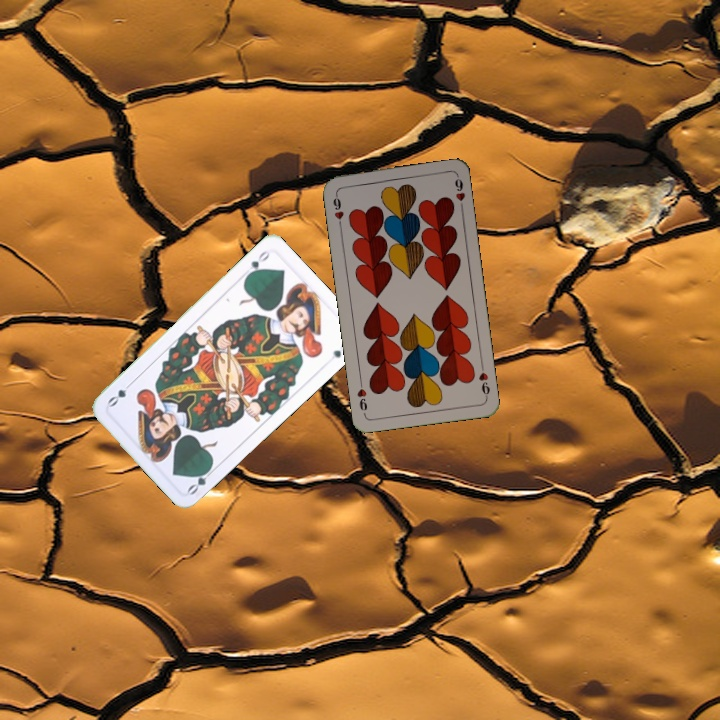GO: (183, 462, 218, 497), (242, 246, 272, 280)
H9: (475, 360, 492, 401), (329, 189, 346, 230)
